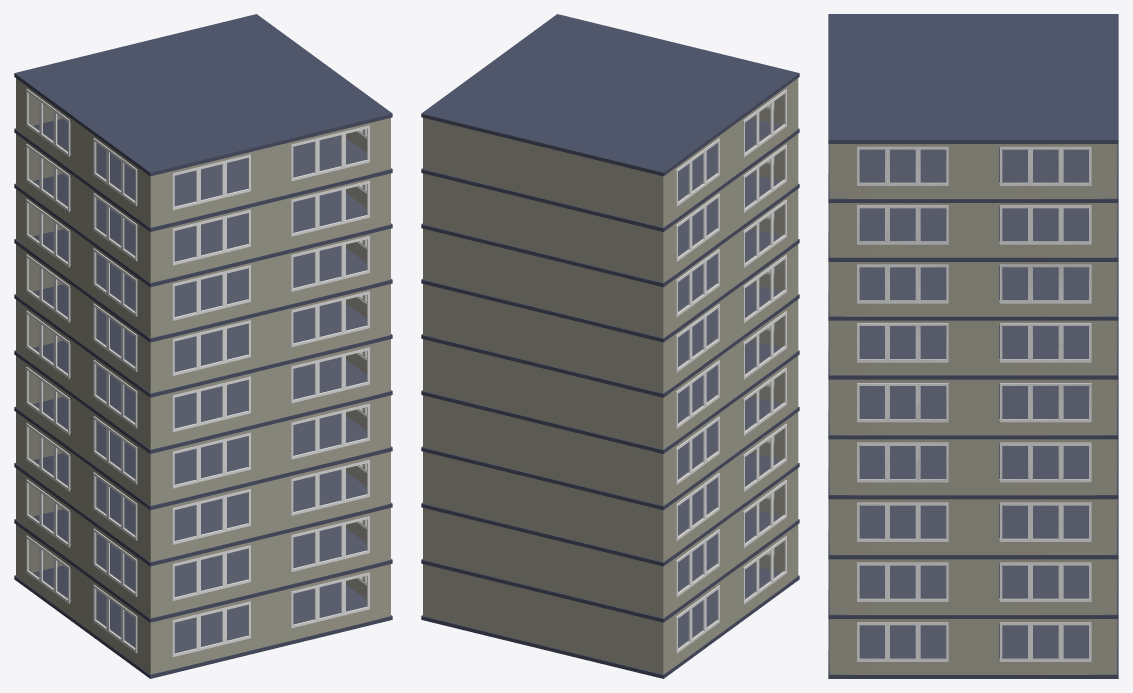
Rendered from Building_01.FBX.
3 renders of one model, left to right at view 1: azimuth 30°, elevation 25°; view 2: azimuth 150°, elevation 25°; view 3: azimuth 270°, elevation 25°, orthographic. The views are drawn at different scales.
Visible parts, largest first — view 1: Box019, Box009, Box011, Box005, Box007, Box003, Box017, Box001, Box013, Box015, Box008, Box012 (+43 smaller); view 2: Box019, Box011, Box003, Box007, Box009, Box005, Box017, Box001, Box013, Box015, Box006, Box004 (+25 smaller); view 3: Box019, Box003, Box005, Box007, Box009, Box011, Box001, Box013, Box015, Box017, Box008, Box014 (+25 smaller).
Part boxes in pixels (bbox=[...]): Box019: bbox=[14, 14, 392, 176]; Box009: bbox=[16, 468, 390, 618]; Box011: bbox=[16, 524, 390, 674]; Box005: bbox=[16, 356, 390, 505]; Box007: bbox=[16, 412, 390, 561]; Box003: bbox=[16, 300, 390, 449]; Box017: bbox=[16, 78, 390, 227]; Box001: bbox=[16, 244, 390, 393]; Box013: bbox=[16, 189, 390, 337]; Box015: bbox=[16, 134, 390, 282]; Box008: bbox=[14, 453, 392, 566]; Box012: bbox=[14, 565, 392, 678]; Box019: bbox=[421, 14, 799, 176]; Box011: bbox=[423, 524, 798, 674]; Box003: bbox=[423, 299, 798, 449]; Box007: bbox=[423, 412, 798, 561]; Box009: bbox=[423, 468, 798, 618]; Box005: bbox=[423, 356, 798, 505]; Box017: bbox=[423, 78, 798, 227]; Box001: bbox=[423, 244, 798, 393]; Box013: bbox=[423, 189, 798, 337]; Box015: bbox=[423, 134, 798, 282]; Box006: bbox=[421, 397, 799, 510]; Box004: bbox=[421, 340, 799, 453]; Box019: bbox=[828, 14, 1118, 143]; Box003: bbox=[829, 379, 1117, 435]; Box005: bbox=[829, 439, 1117, 495]; Box007: bbox=[829, 499, 1117, 554]; Box009: bbox=[829, 559, 1117, 614]; Box011: bbox=[829, 619, 1117, 674]; Box001: bbox=[829, 320, 1117, 375]; Box013: bbox=[829, 262, 1117, 316]; Box015: bbox=[829, 203, 1117, 257]; Box017: bbox=[829, 144, 1117, 198]; Box008: bbox=[828, 499, 1118, 559]; Box014: bbox=[828, 262, 1118, 320].
Bounding box in the file's own units: 749 × 1491 × 727.
